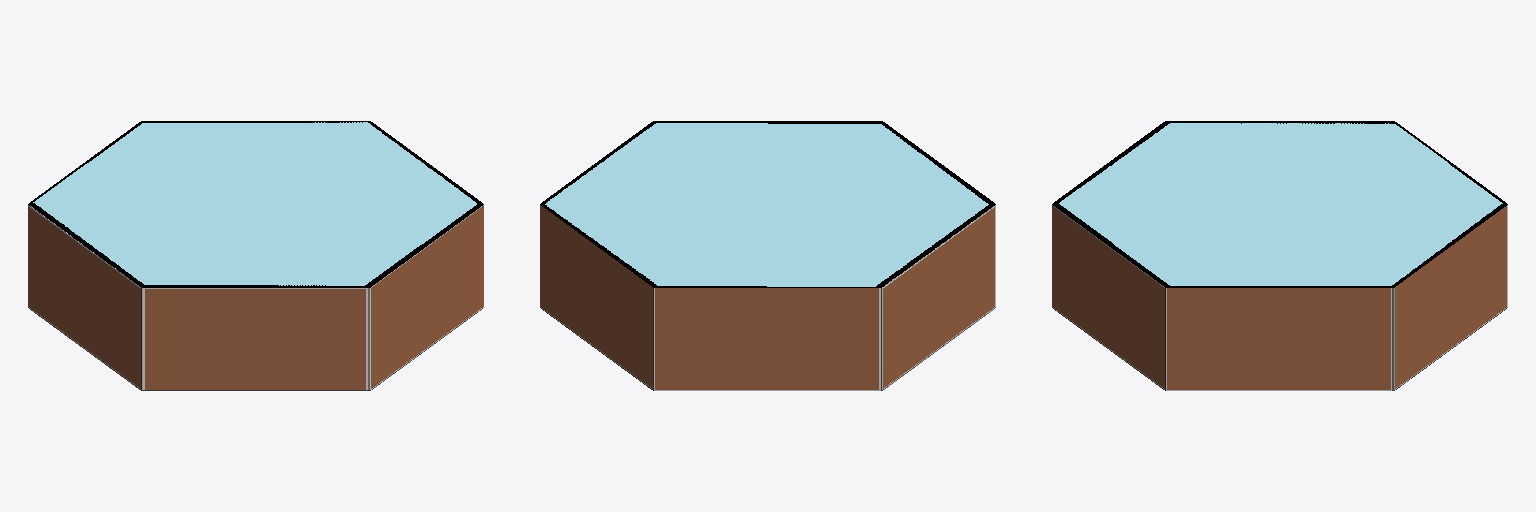
3 renders of one model, left to right at view 1: azimuth 30°, elevation 25°; view 2: azimuth 150°, elevation 25°; view 3: azimuth 270°, elevation 25°, orthographic.
Parts seen in each view (by area): view 1: PlainHex_Plane; view 2: PlainHex_Plane; view 3: PlainHex_Plane.
Part boxes in pixels (left/top/right/bottom): PlainHex_Plane: left=28, top=121, right=483, bottom=390; PlainHex_Plane: left=540, top=121, right=995, bottom=390; PlainHex_Plane: left=1052, top=121, right=1507, bottom=390.
Size of the model in its own units: 1.73 by 0.5 by 2.
Materials: 2 (2 with a texture image).